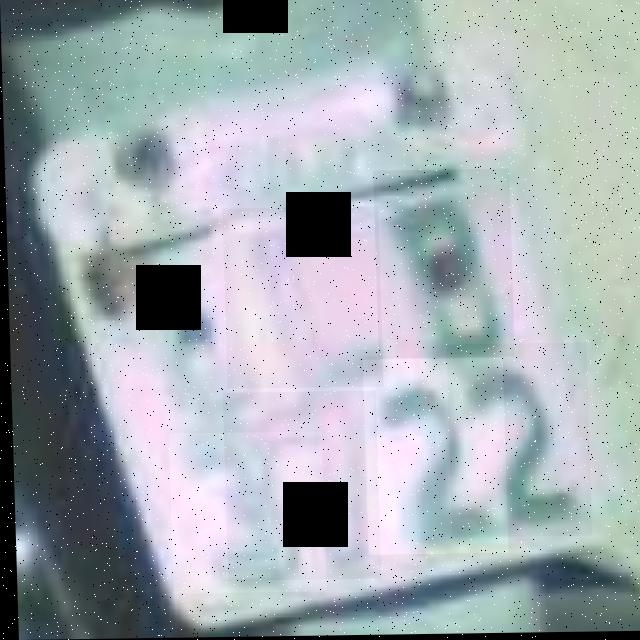2: (361, 359, 506, 556), (444, 344, 589, 539)
3: (166, 432, 323, 594)
7: (220, 392, 378, 582)
B: (372, 170, 512, 360)
J: (221, 208, 381, 390)
